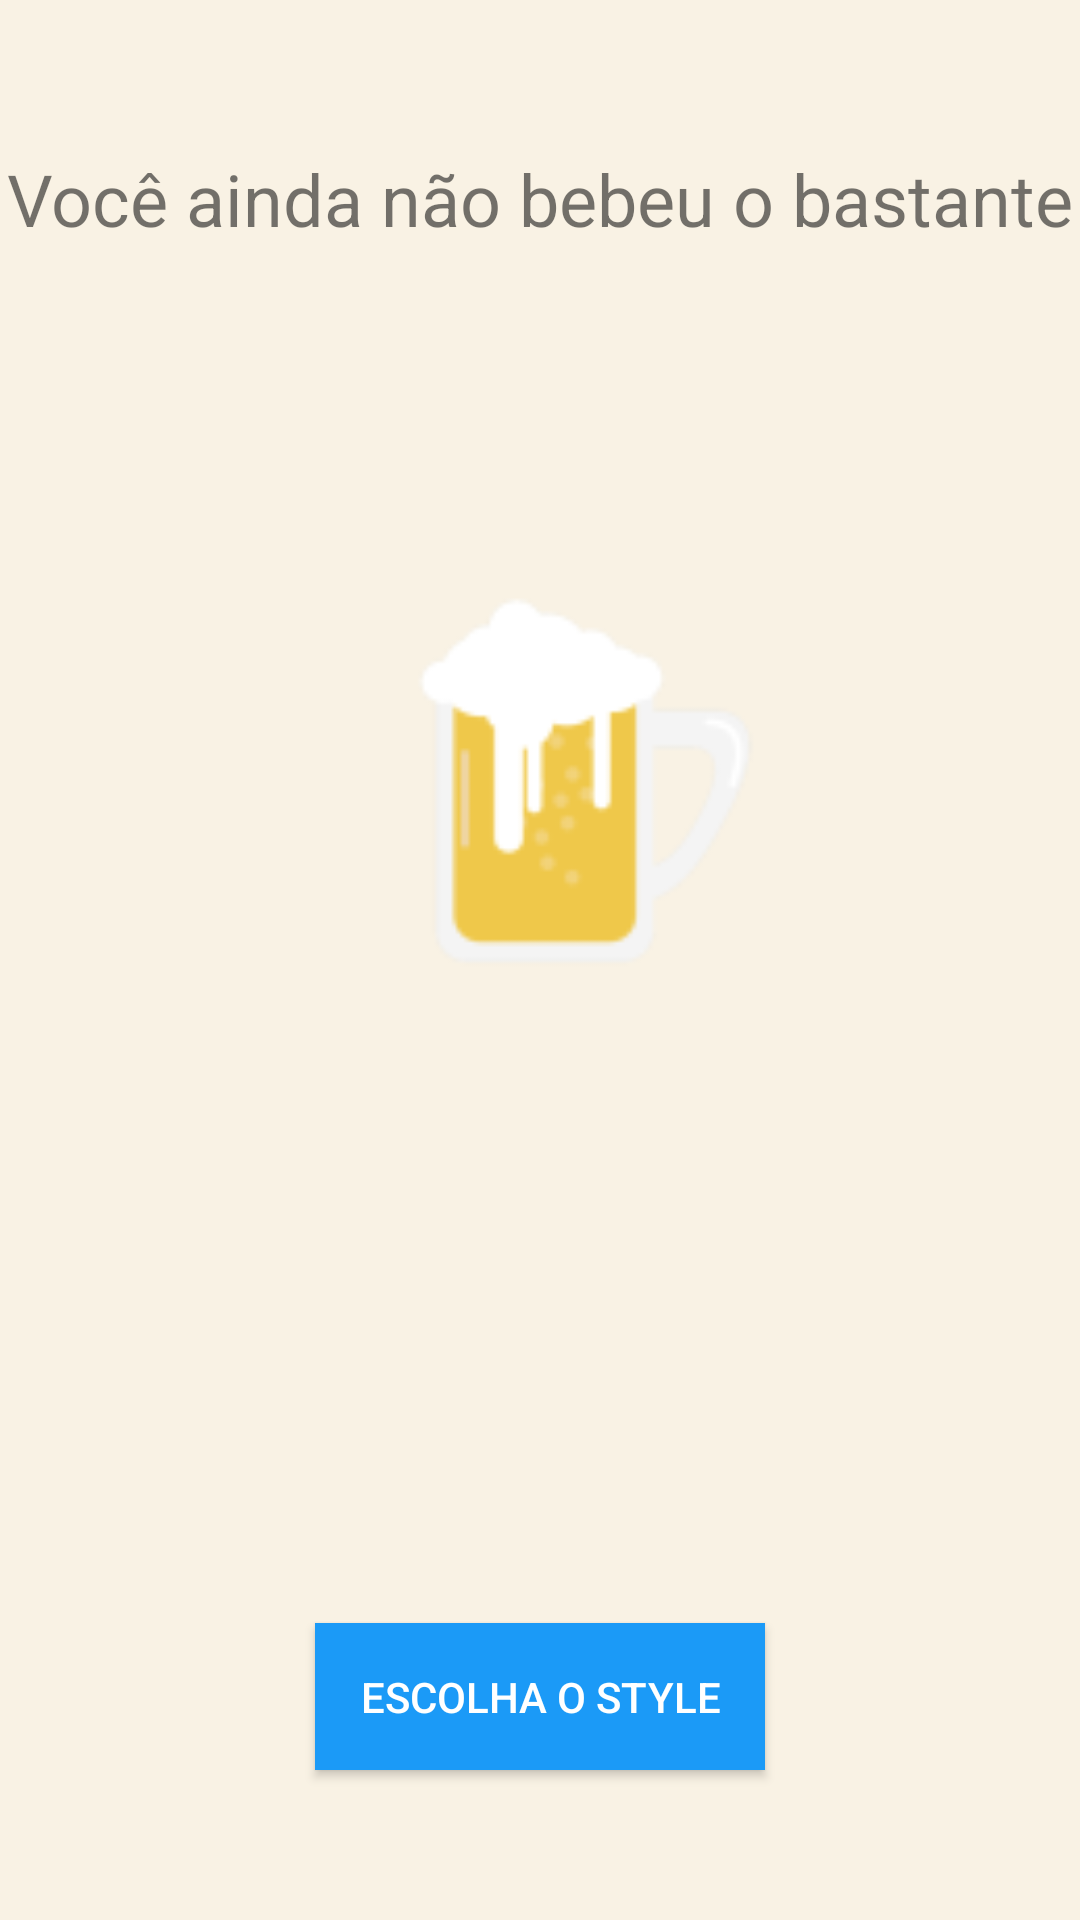

Point at icon controls on the screen. Image size 1080 × 1920, points as [x,y].
Linda imagem de uma cerveja: [582,773]
